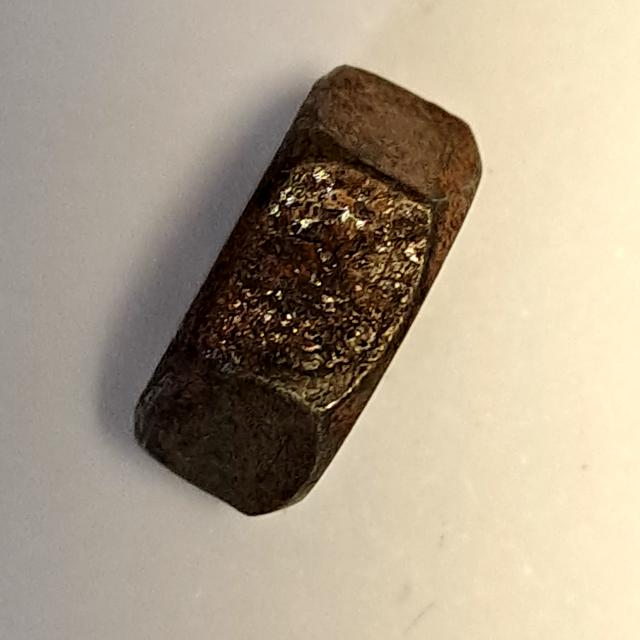Side_Rust: (121, 51, 499, 528)
